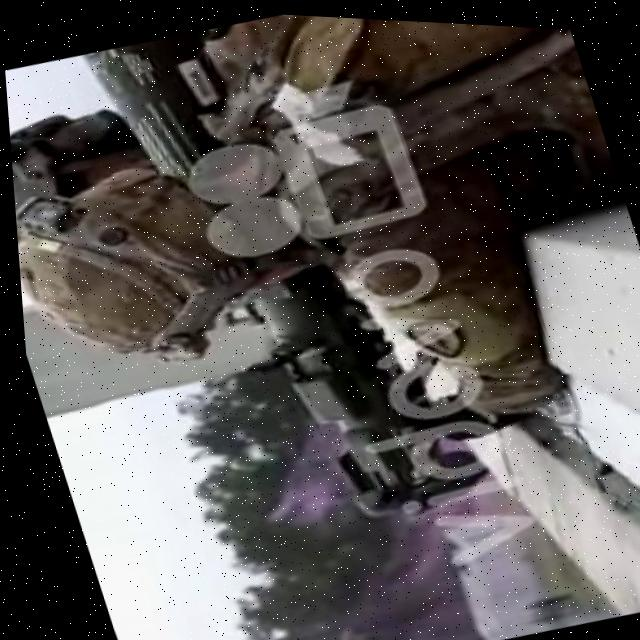rocket: (81, 3, 479, 551)
